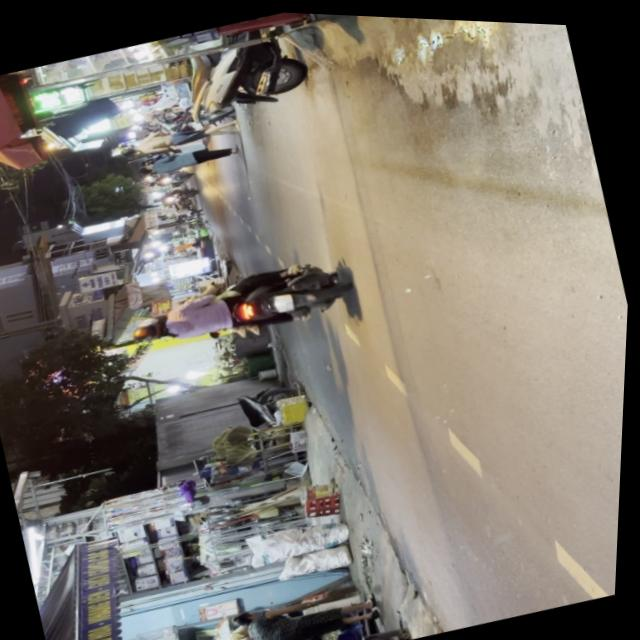helmet: (133, 316, 173, 344)
licenseplate: (123, 241, 360, 365)
nohelmet: (274, 290, 297, 311)
